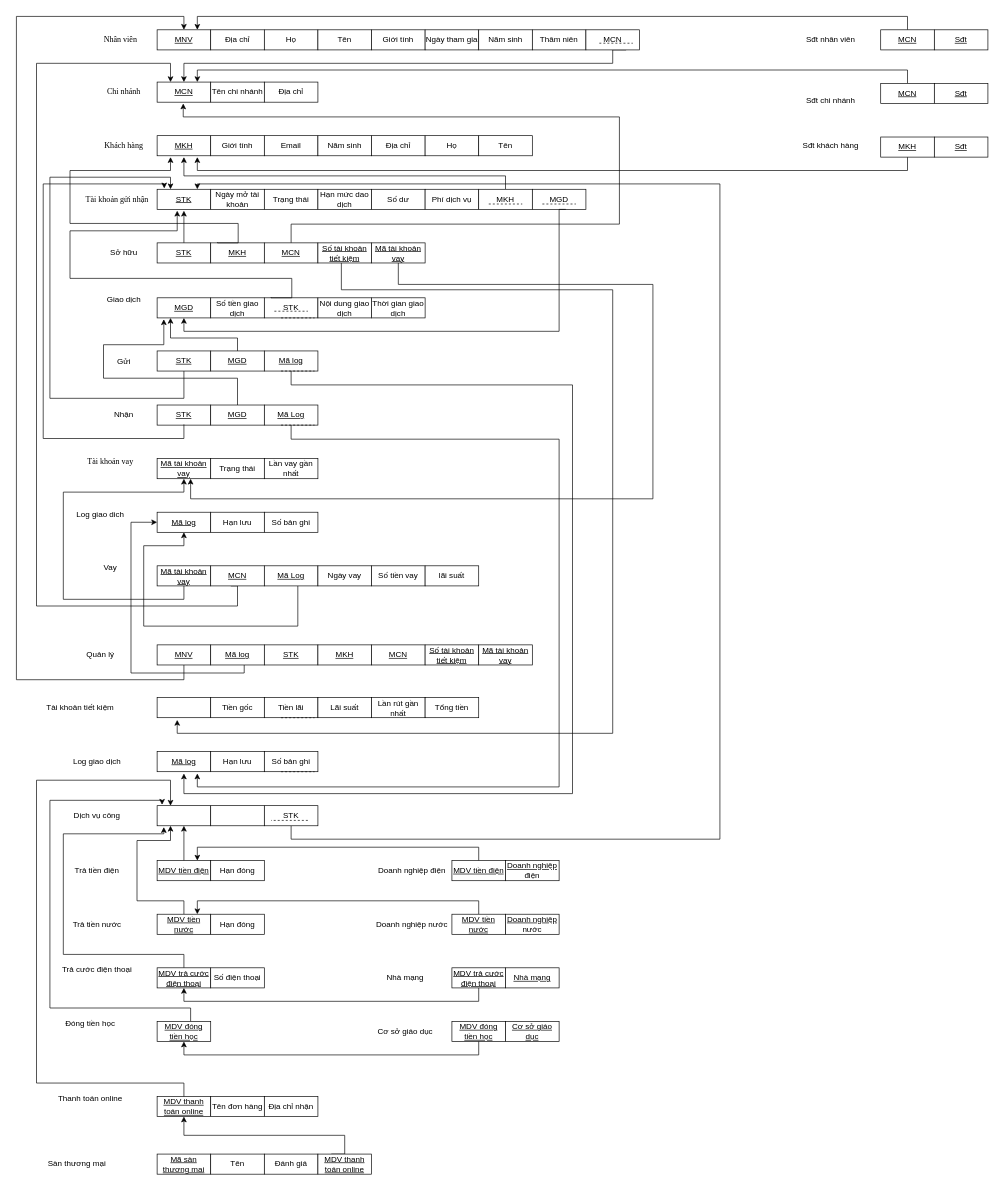
The diagram is 1000 pixels wide and 1186 high, and some of its shapes have lost their labels. Each missing label, with the centre of its shape:
"MDV" goes at [183,815].
"Số tiền" goes at [237,815].
"Số tài khoản" goes at [183,707].
